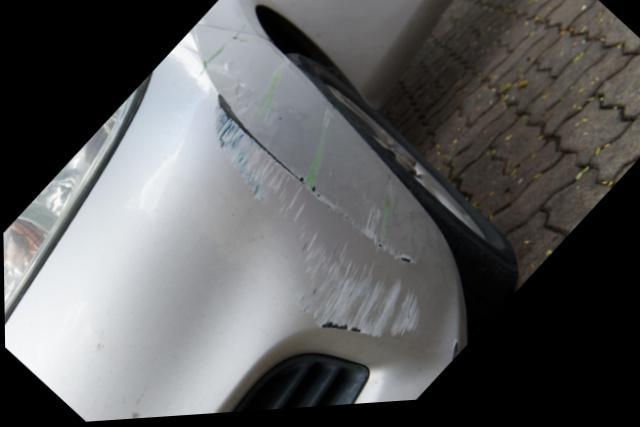scratch: (197, 44, 427, 344), (448, 341, 458, 368)
